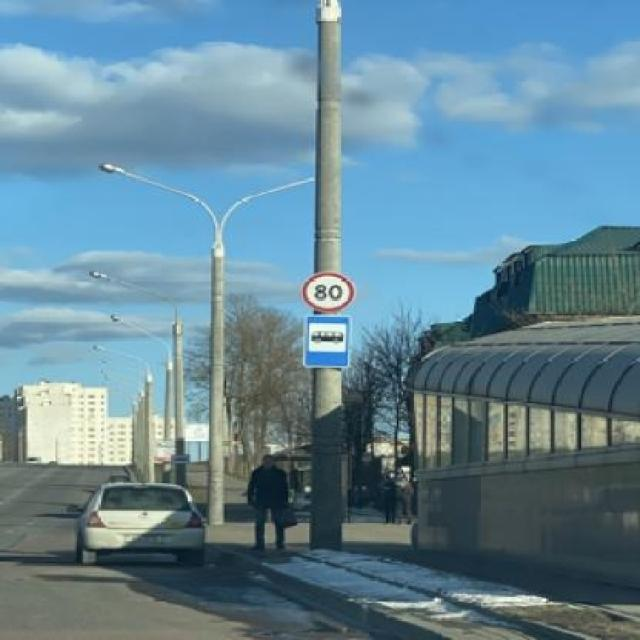forb_speed_over_80: (302, 271, 355, 312)
